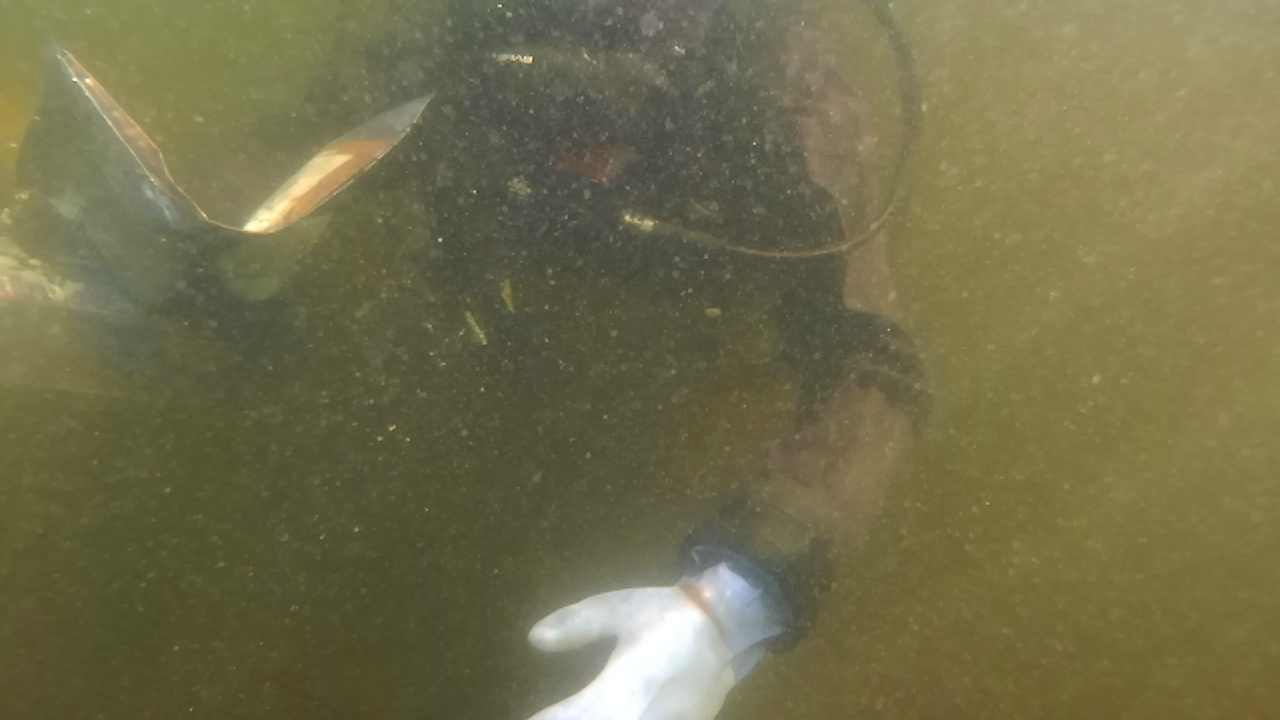Hand: (452, 518, 822, 716)
